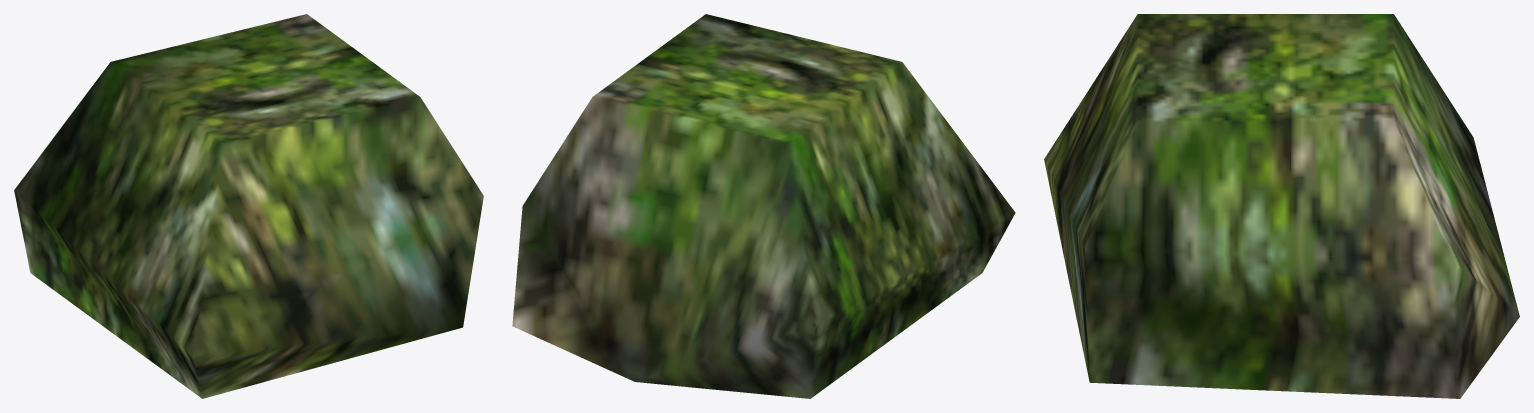
Rendered from frst_rock_mossy_sm_l1.fbx.
3 views of the same model, side by side, from view 1: azimuth 30°, elevation 25°; view 2: azimuth 150°, elevation 25°; view 3: azimuth 270°, elevation 25° (orthographic). The views are drawn at different scales.
Visible parts, largest first — view 1: mesh_node; view 2: mesh_node; view 3: mesh_node.
Boxes of the visible parts, left/top/right/bottom form: mesh_node: left=14, top=14, right=483, bottom=398; mesh_node: left=512, top=14, right=1015, bottom=398; mesh_node: left=1044, top=14, right=1519, bottom=398.
Size of the model in its own units: 0.7247 by 0.4779 by 0.8287.
